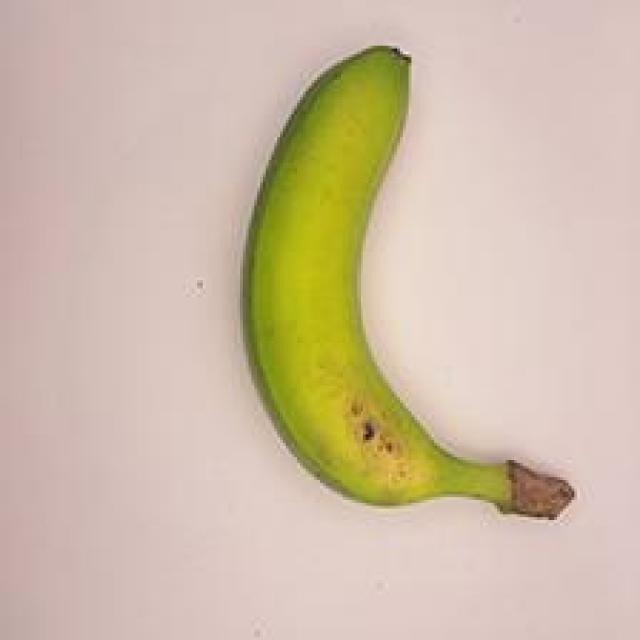Unripe: (228, 13, 582, 551)
